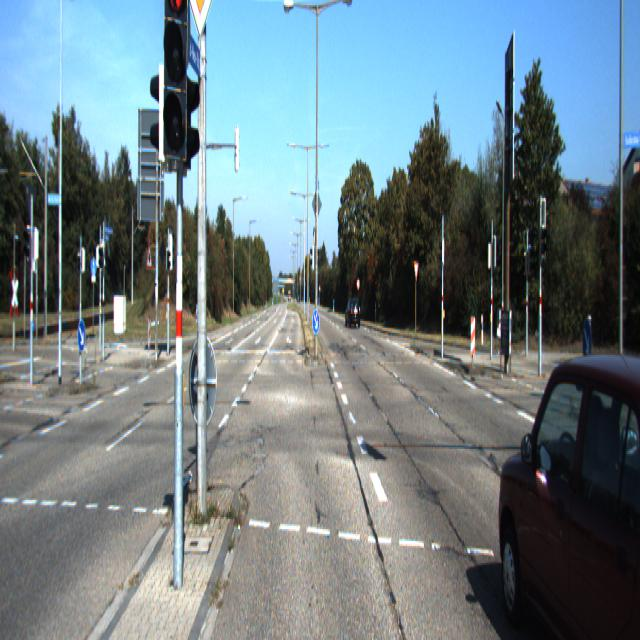Car: (494, 336, 640, 638), (345, 296, 361, 330)
